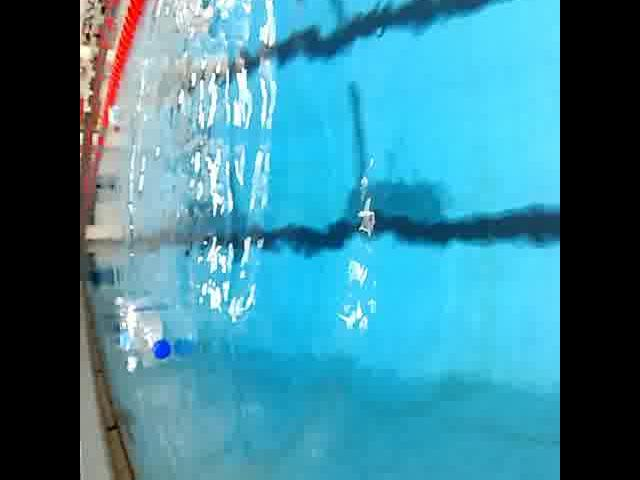Bottle: (125, 294, 175, 364), (112, 290, 142, 376), (171, 0, 215, 40), (102, 102, 124, 138)
